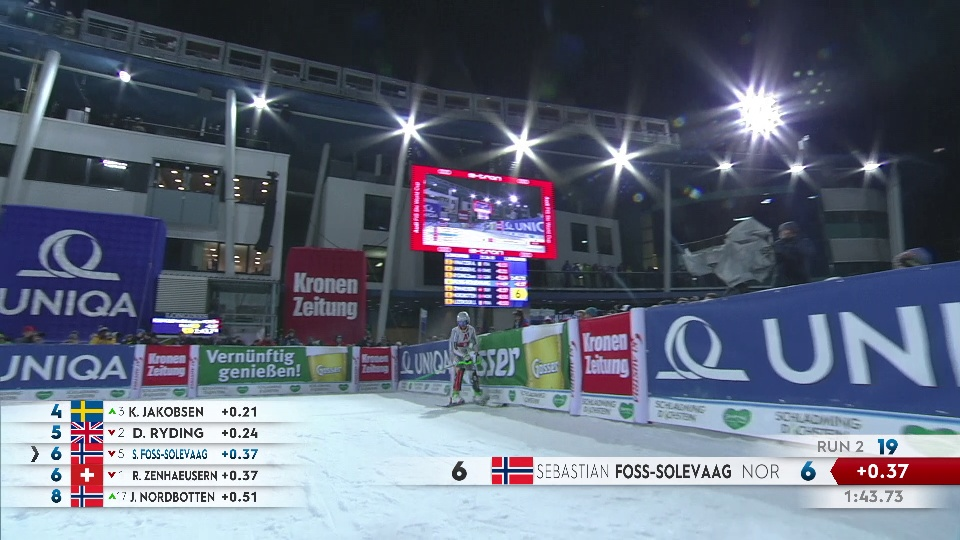etron: (466, 172, 506, 186)
goesser: (211, 353, 317, 384), (474, 333, 535, 385), (528, 354, 567, 381)
kronenzeitung: (291, 269, 362, 324), (582, 328, 631, 386), (145, 350, 191, 387), (361, 350, 393, 382)
schladming: (769, 408, 867, 440), (650, 401, 708, 430), (581, 396, 610, 423)
steiermark: (724, 406, 753, 434), (617, 402, 641, 423)
uniqa: (645, 296, 960, 390), (8, 224, 135, 330), (1, 344, 139, 393), (401, 346, 452, 378)
